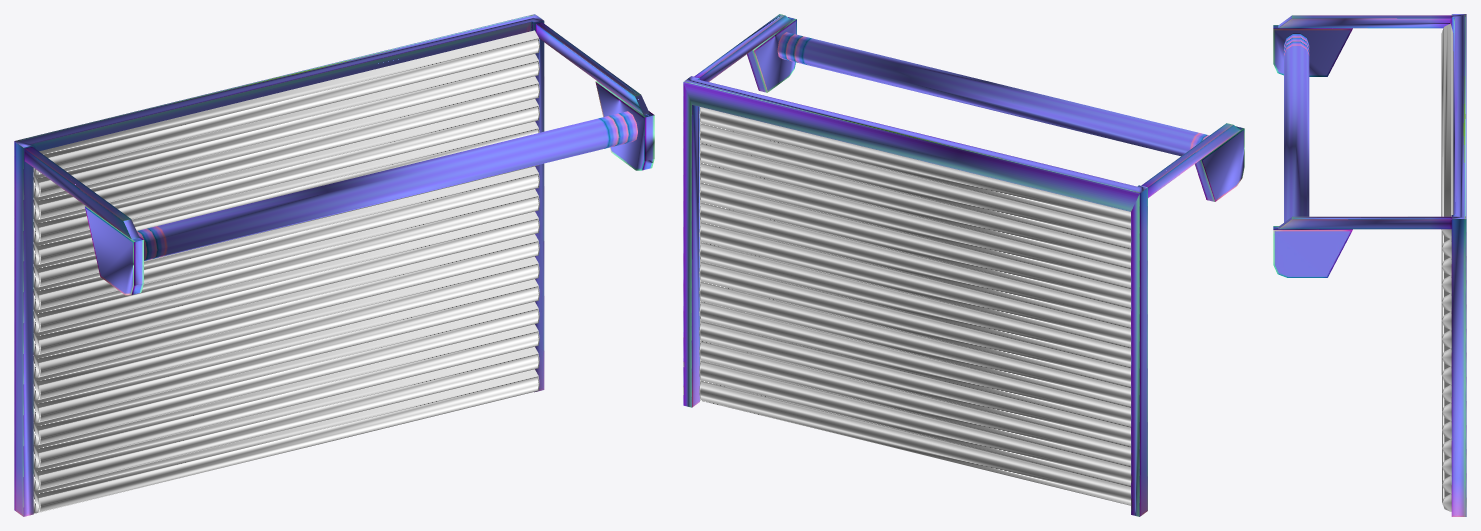
File: roller_shutters3.obj
3 views of the same model, side by side, from view 1: azimuth 30°, elevation 25°; view 2: azimuth 150°, elevation 25°; view 3: azimuth 270°, elevation 25° (orthographic). The views are drawn at different scales.
Parts seen in each view (by area): view 1: Cube_037, gartentor_part_015, gartentor_part_004, gartentor_part_007, gartentor_part, gartentor_part_002, gartentor_part_005, gartentor_part_001, gartentor_part_006, gartentor_part_003, gartentor_part_008, gartentor_part_013 (+5 smaller); view 2: Cube_037, gartentor_part_003, gartentor_part_006, gartentor_part_008, gartentor_part_001, gartentor_part_010, gartentor_part_005, gartentor_part_012, gartentor_part, gartentor_part_002, gartentor_part_009, gartentor_part_011 (+4 smaller); view 3: Cube_037, gartentor_part_015, gartentor_part_014.
Part boxes in pixels (x1,y1,x2,y2): Cube_037: (14,14,654,516); gartentor_part_015: (33,30,539,175); gartentor_part_004: (33,279,539,423); gartentor_part_007: (33,211,539,355); gartentor_part: (33,369,539,513); gartentor_part_002: (33,324,539,468); gartentor_part_005: (33,256,539,400); gartentor_part_001: (33,346,539,490); gartentor_part_006: (33,234,539,378); gartentor_part_003: (33,301,539,445); gartentor_part_008: (33,189,539,332); gartentor_part_013: (33,76,539,220); Cube_037: (683,14,1244,516); gartentor_part_003: (699,321,1130,446); gartentor_part_006: (699,262,1130,386); gartentor_part_008: (699,222,1130,347); gartentor_part_001: (699,361,1130,485); gartentor_part_010: (699,183,1130,307); gartentor_part_005: (699,282,1130,406); gartentor_part_012: (699,143,1130,268); gartentor_part: (699,381,1130,505); gartentor_part_002: (699,341,1130,465); gartentor_part_009: (699,203,1130,327); gartentor_part_011: (699,163,1130,287); Cube_037: (1273,14,1466,516); gartentor_part_015: (1441,23,1453,238); gartentor_part_014: (1441,51,1453,256).
Size of the model in its own units: 3.8 by 2.57 by 1.51.
